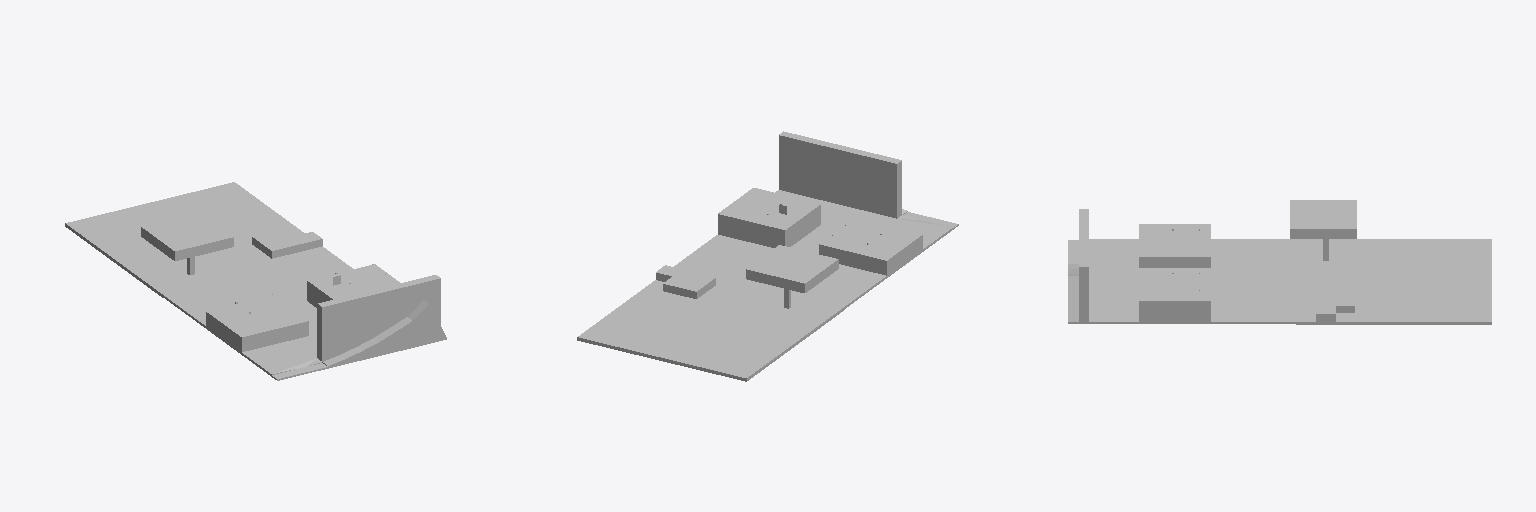
The model's file is bataille4.obj.
The picture shows the model from 3 angles: view 1: azimuth 30°, elevation 25°; view 2: azimuth 150°, elevation 25°; view 3: azimuth 270°, elevation 25°; orthographic projection.
Visible parts, largest first — view 1: Terrain; view 2: Terrain; view 3: Terrain.
Boxes of the visible parts, x1=… form: Terrain: x1=65, y1=182, x2=446, y2=380; Terrain: x1=577, y1=131, x2=958, y2=381; Terrain: x1=1068, y1=200, x2=1491, y2=324.
Bounding box in the file's own units: 42.15 × 14.5 × 91.37.